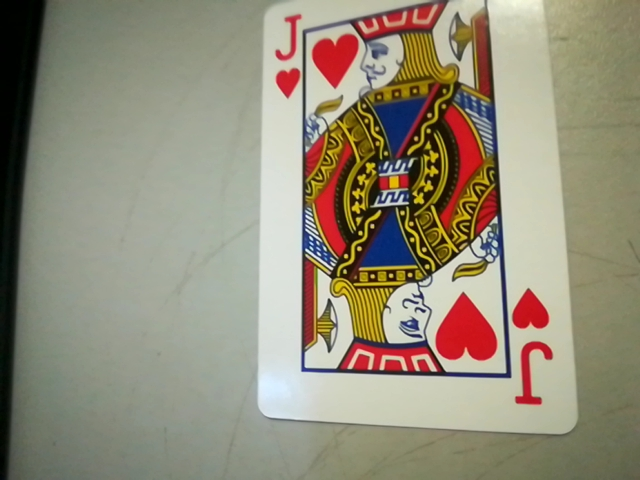hx j: (502, 284, 566, 416), (264, 7, 304, 96)
